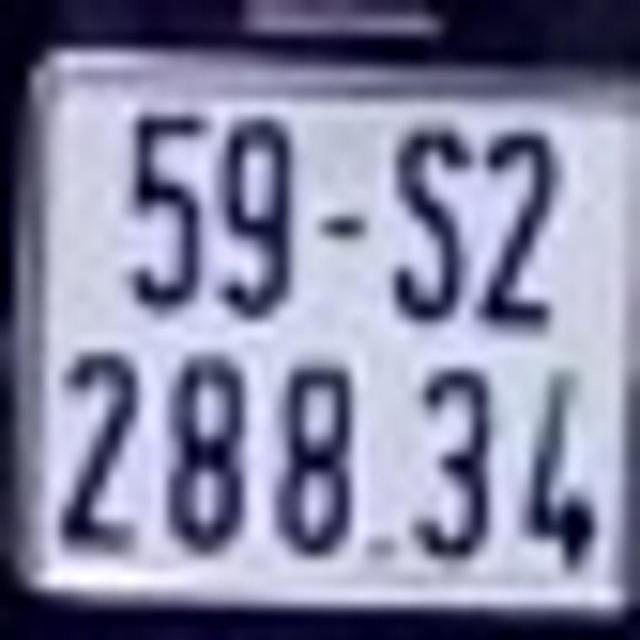2: (56, 343, 149, 547), (484, 122, 560, 325)
3: (414, 359, 496, 568)
4: (524, 364, 606, 572)
5: (127, 107, 206, 316)
8: (162, 352, 252, 555), (277, 352, 358, 561)
9: (212, 121, 296, 321)
S: (384, 119, 476, 323)
